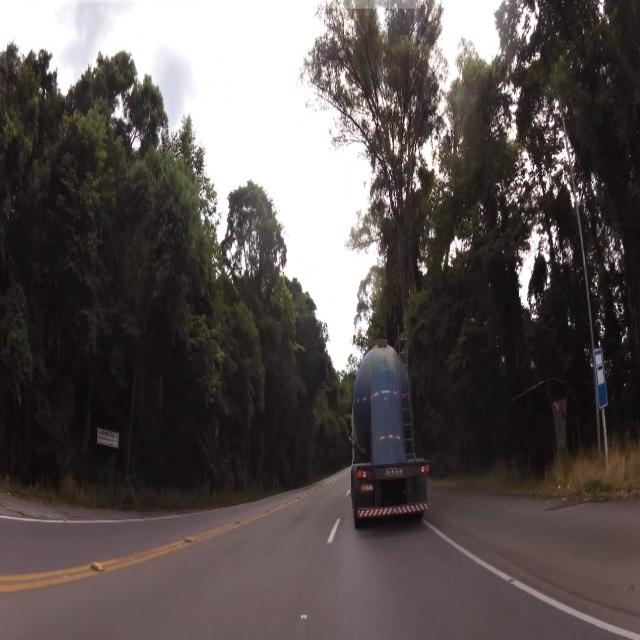S-14: (592, 350, 612, 412)
